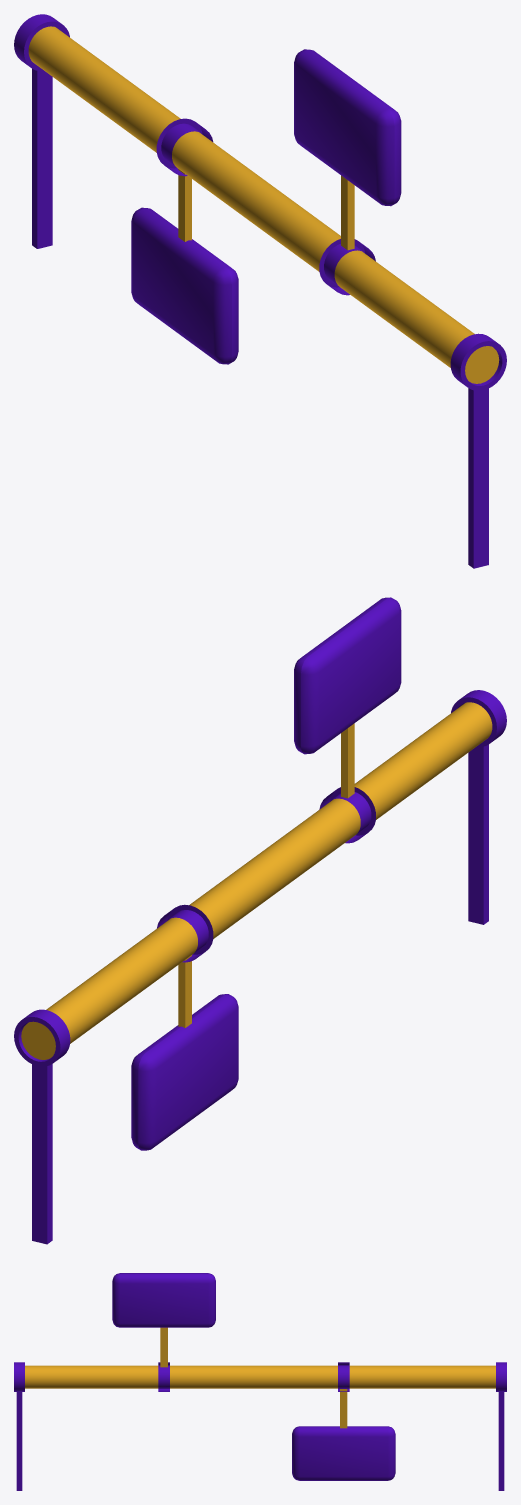
3 renders of one model, top to bottom at view 1: azimuth 30°, elevation 25°; view 2: azimuth 150°, elevation 25°; view 3: azimuth 270°, elevation 25°, orthographic. The views are drawn at different scales.
Parts seen in each view (by area): view 1: Body, Hand_L, Hand_R, Legs, Shoulder_R, Shoulder_L, Arm_L, Arm_R; view 2: Body, Hand_L, Hand_R, Legs, Shoulder_R, Shoulder_L, Arm_L, Arm_R; view 3: Body, Hand_L, Hand_R, Legs, Shoulder_R, Arm_L, Shoulder_L, Arm_R.
Boxes of the visible parts, x1,y1,x2,y2 form: Body: [28, 26, 499, 383]; Hand_L: [294, 49, 401, 206]; Hand_R: [131, 207, 238, 364]; Legs: [14, 14, 506, 568]; Shoulder_R: [156, 118, 213, 176]; Shoulder_L: [319, 239, 375, 295]; Arm_L: [341, 175, 354, 250]; Arm_R: [178, 169, 191, 241]; Body: [21, 702, 492, 1059]; Hand_L: [294, 597, 401, 754]; Hand_R: [131, 994, 238, 1150]; Legs: [14, 690, 506, 1244]; Shoulder_R: [157, 904, 213, 962]; Shoulder_L: [319, 787, 375, 843]; Arm_L: [341, 723, 354, 798]; Arm_R: [178, 955, 191, 1027]; Body: [25, 1365, 495, 1388]; Hand_L: [112, 1273, 215, 1327]; Hand_R: [292, 1426, 395, 1480]; Legs: [14, 1362, 506, 1490]; Shoulder_R: [338, 1362, 349, 1391]; Arm_L: [160, 1327, 167, 1367]; Shoulder_L: [158, 1362, 169, 1391]; Arm_R: [340, 1389, 347, 1428].
Bounding box in the file's own units: 0.5383 × 4.31 × 8.95.
